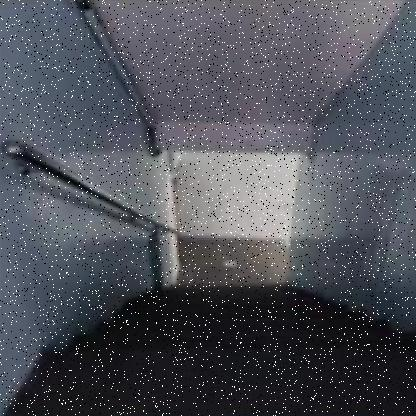stair_down: (104, 264, 352, 366)
